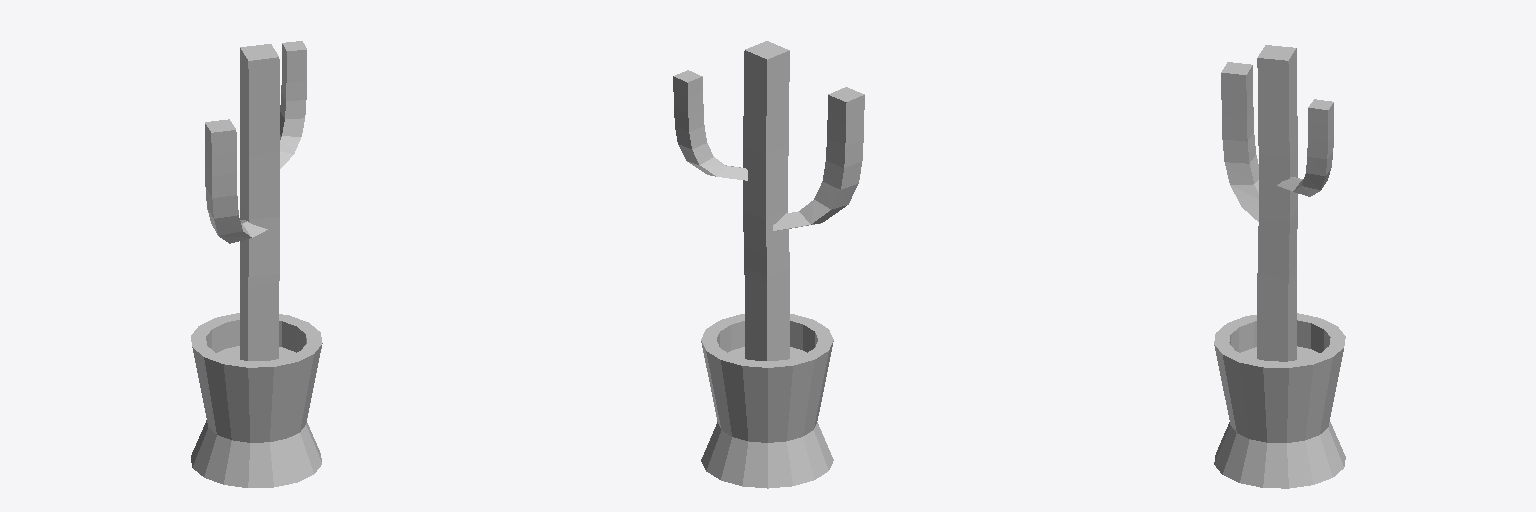
File: cactus_grande_01_000019.obj
The picture shows the model from 3 angles: view 1: azimuth 30°, elevation 25°; view 2: azimuth 150°, elevation 25°; view 3: azimuth 270°, elevation 25°; orthographic projection.
Visible parts, largest first — view 1: Cylinder, NurbsPath.001, NurbsPath.002, NurbsPath.003; view 2: Cylinder, NurbsPath.001, NurbsPath.002, NurbsPath.003; view 3: Cylinder, NurbsPath.001, NurbsPath.002, NurbsPath.003.
Boxes of the visible parts, x1,y1,x2,y2 form: Cylinder: [191, 313, 322, 487]; NurbsPath.001: [240, 44, 279, 360]; NurbsPath.002: [205, 119, 267, 243]; NurbsPath.003: [280, 41, 306, 168]; Cylinder: [701, 314, 833, 488]; NurbsPath.001: [743, 41, 789, 360]; NurbsPath.002: [773, 87, 864, 230]; NurbsPath.003: [673, 70, 747, 180]; Cylinder: [1214, 313, 1345, 488]; NurbsPath.001: [1257, 45, 1297, 361]; NurbsPath.002: [1221, 62, 1258, 221]; NurbsPath.003: [1277, 99, 1333, 196].
Bounding box in the file's own units: 1.59 × 4.41 × 1.29.